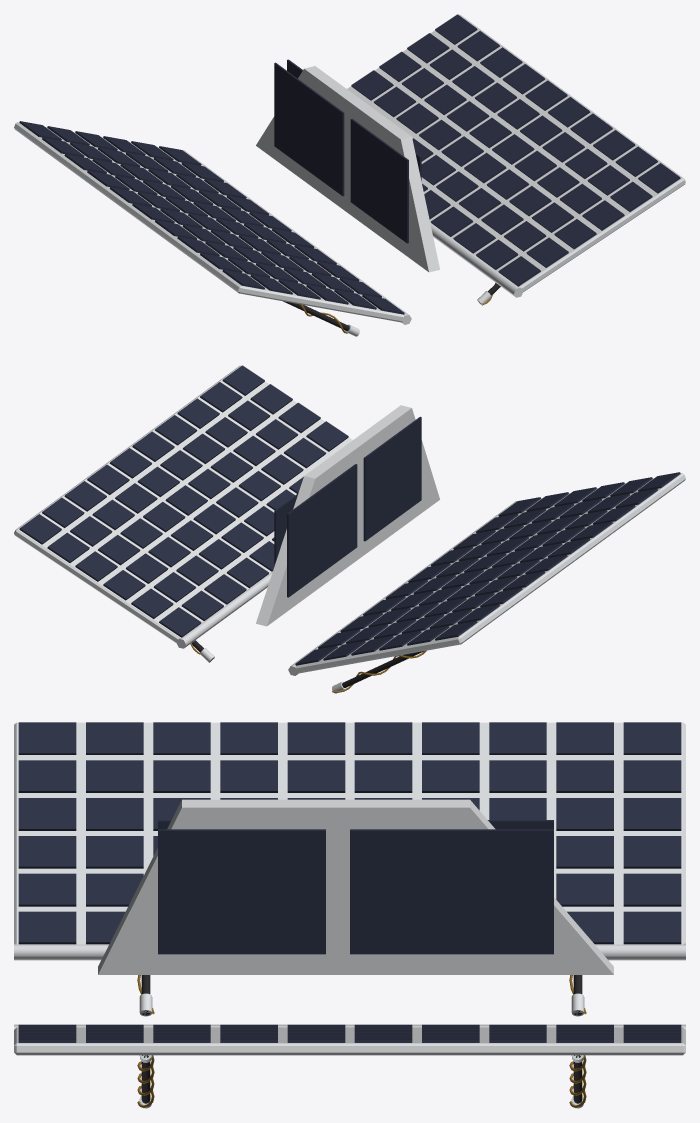
File: e1_array.obj
3 renders of one model, top to bottom at view 1: azimuth 30°, elevation 25°; view 2: azimuth 150°, elevation 25°; view 3: azimuth 270°, elevation 25°, orthographic. The views are drawn at different scales.
Visible parts, largest first — view 1: e1_array; view 2: e1_array; view 3: e1_array.
Boxes of the visible parts, box(x1,y1,x2,y2) form: e1_array: box(14, 14, 685, 336); e1_array: box(14, 365, 685, 693); e1_array: box(14, 722, 685, 1108).
Size of the model in its own units: 3.21 by 1.19 by 2.8.
